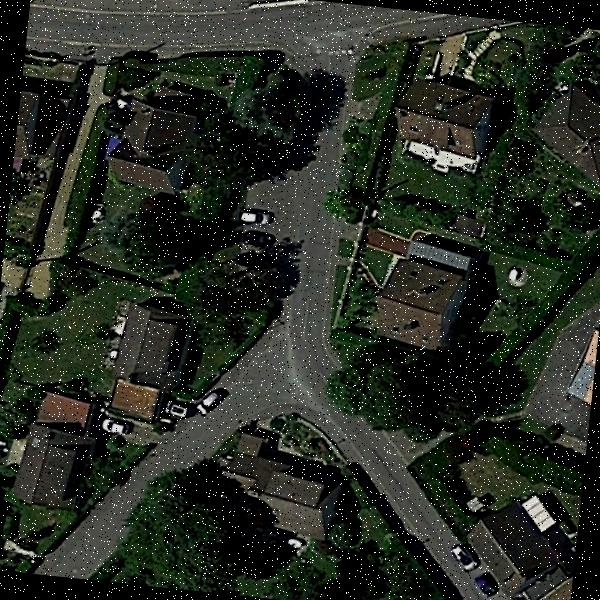Buildings: (371, 236, 471, 346), (394, 68, 502, 164), (108, 89, 195, 204), (468, 497, 572, 592), (226, 440, 334, 528), (12, 412, 86, 516), (113, 308, 193, 398), (539, 83, 600, 182), (12, 86, 46, 167)
